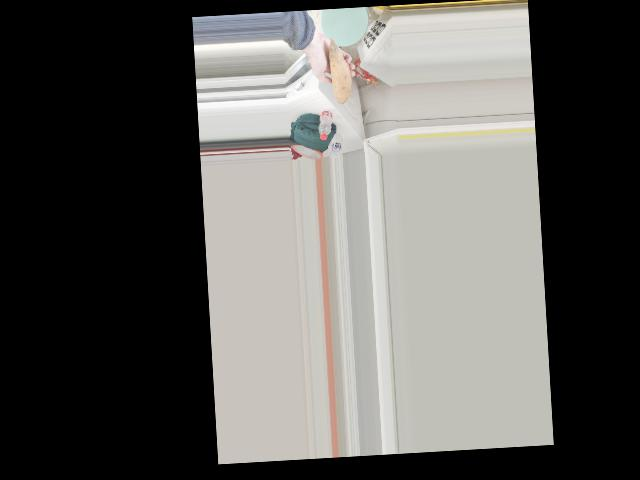sweet_potato: (328, 41, 352, 98)
